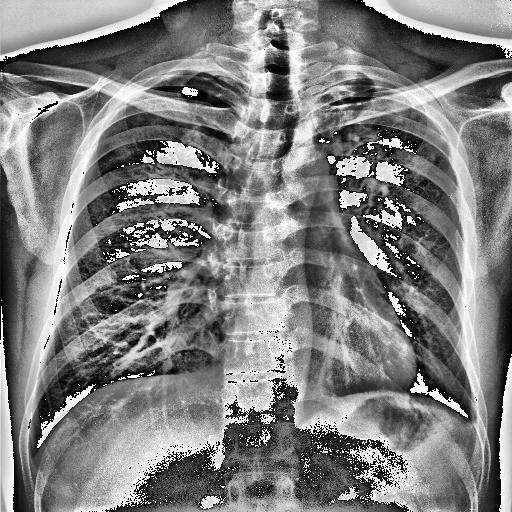10- Pleural effusion: (458, 411, 481, 433)
11- Pleural thickening: (458, 411, 481, 433)
13- Pulmonary fibrosis: (323, 84, 440, 200), (327, 84, 411, 204), (338, 84, 404, 194)
